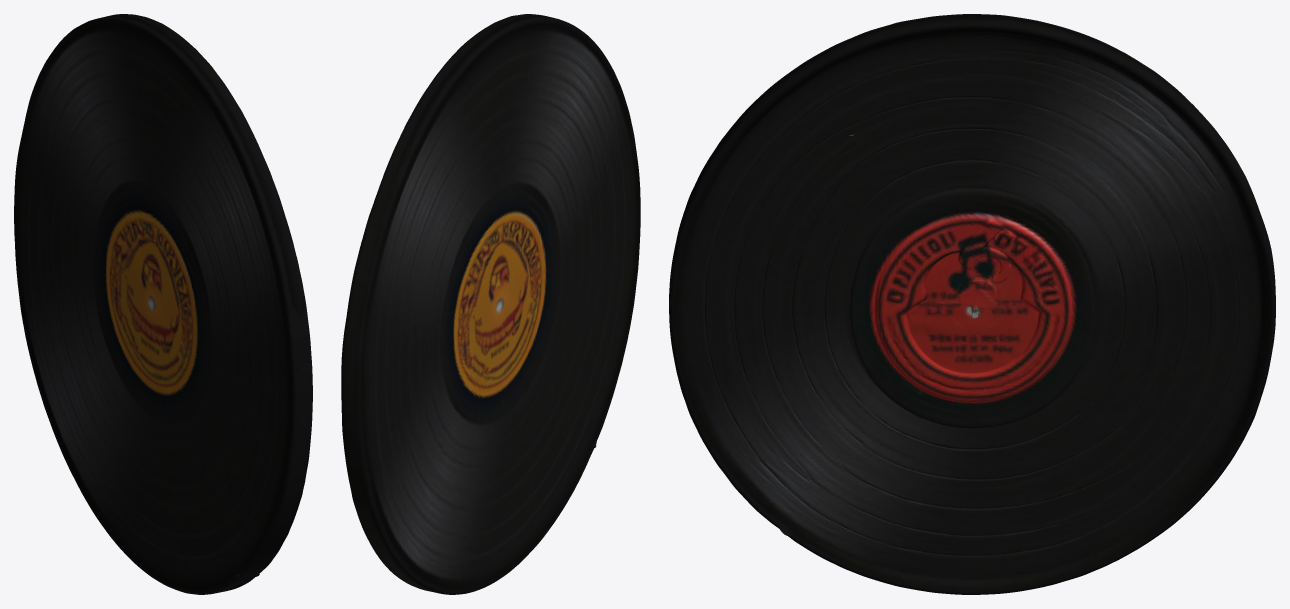
The model's file is RedLP.fbx.
3 views of the same model, side by side, from view 1: azimuth 30°, elevation 25°; view 2: azimuth 150°, elevation 25°; view 3: azimuth 270°, elevation 25° (orthographic). The views are drawn at different scales.
Visible parts, largest first — view 1: tripo_node_ab1bbce0.001; view 2: tripo_node_ab1bbce0.001; view 3: tripo_node_ab1bbce0.001.
Part boxes in pixels (x1=…): tripo_node_ab1bbce0.001: x1=14, y1=14, x2=312, y2=594; tripo_node_ab1bbce0.001: x1=341, y1=14, x2=640, y2=594; tripo_node_ab1bbce0.001: x1=669, y1=14, x2=1275, y2=594.
Bounding box in the file's own units: 2.18 × 33.23 × 31.59.
Materials: 1 (1 with a texture image).
